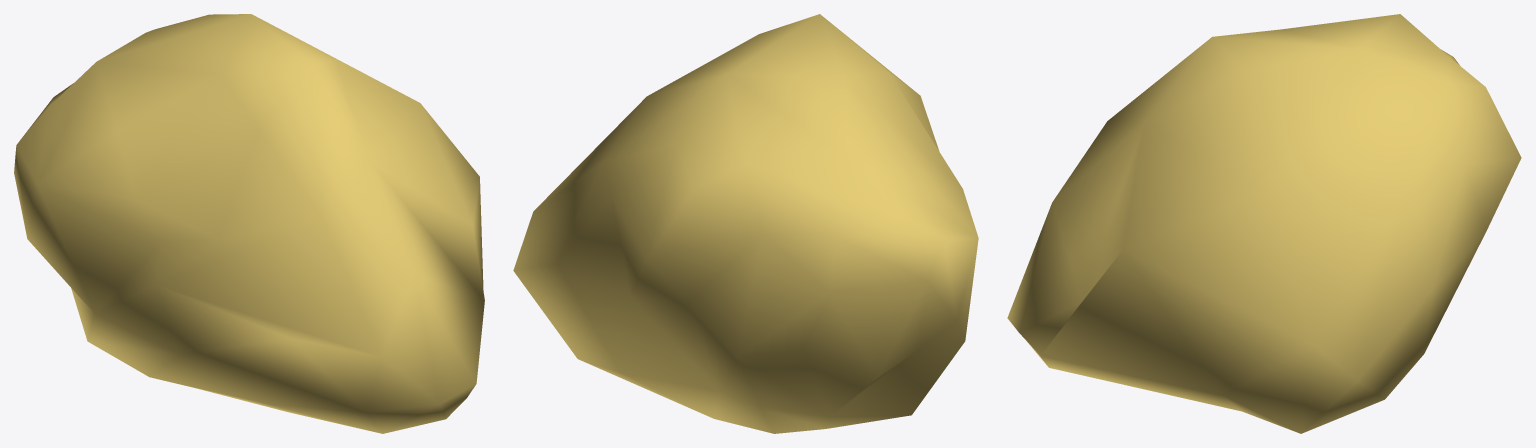
Rendered from e_gold_chunk.fbx.
The picture shows the model from 3 angles, left to right: view 1: azimuth 30°, elevation 25°; view 2: azimuth 150°, elevation 25°; view 3: azimuth 270°, elevation 25°; orthographic projection. The views are drawn at different scales.
Visible parts, largest first — view 1: e_gold_chunk; view 2: e_gold_chunk; view 3: e_gold_chunk.
Boxes of the visible parts, box(x1,y1,x2,y2) form: e_gold_chunk: box(14, 14, 484, 433); e_gold_chunk: box(513, 14, 978, 433); e_gold_chunk: box(1007, 14, 1521, 433).
Bounding box in the file's own units: 10.34 × 7.91 × 10.74.
1 material, 1 textured.
